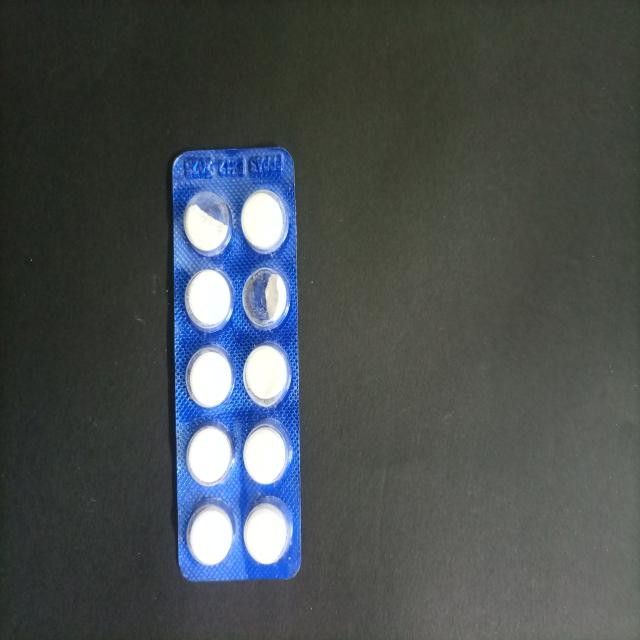defect: (180, 188, 237, 260), (240, 264, 292, 334)
